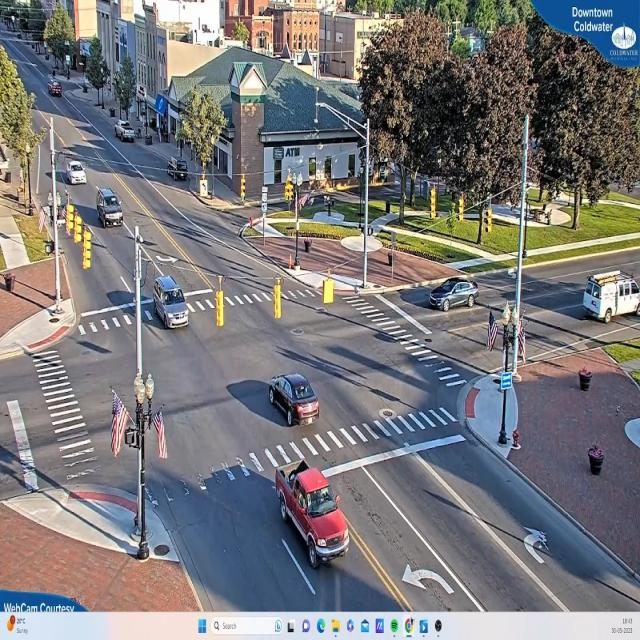car: (274, 460, 350, 568), (584, 271, 640, 326), (269, 374, 319, 426), (150, 276, 188, 330), (429, 279, 479, 310), (96, 189, 124, 229), (117, 122, 137, 144), (49, 80, 63, 98)
